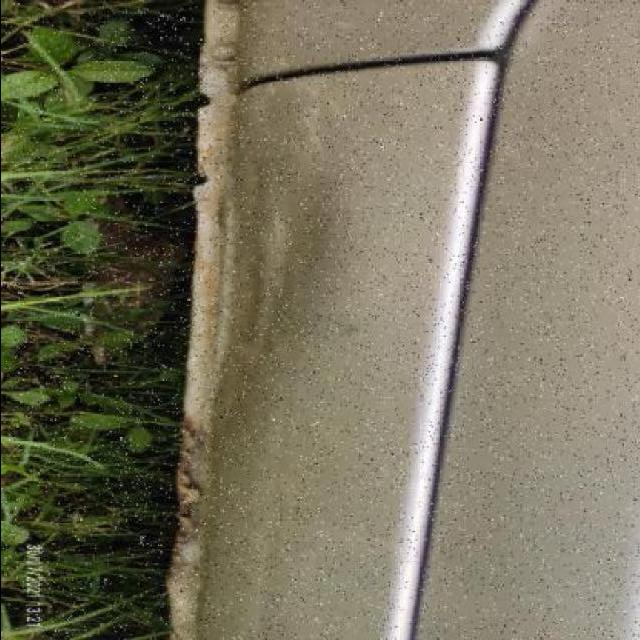RunningBoard-Dent: (151, 54, 518, 606)
